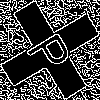P: (25, 25, 82, 77)
